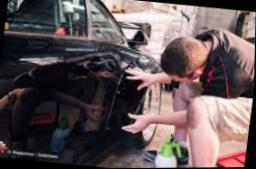Door: (76, 40, 136, 131)
